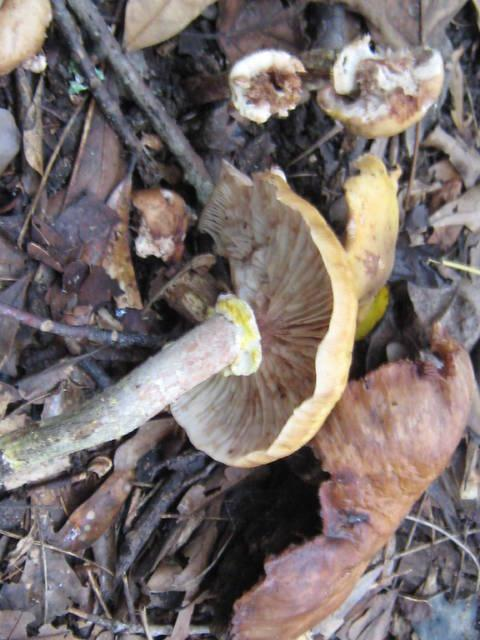Edible Mushroom: (183, 139, 414, 478), (316, 33, 445, 139)
